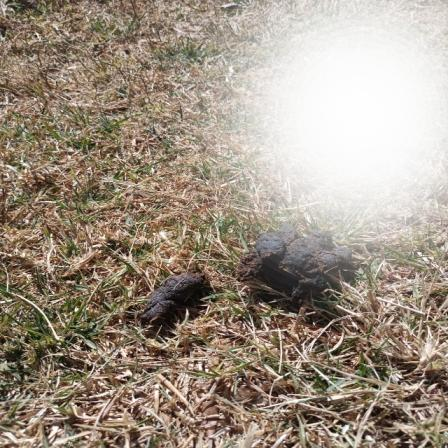dog-poop: (249, 221, 354, 305), (124, 260, 215, 332)
